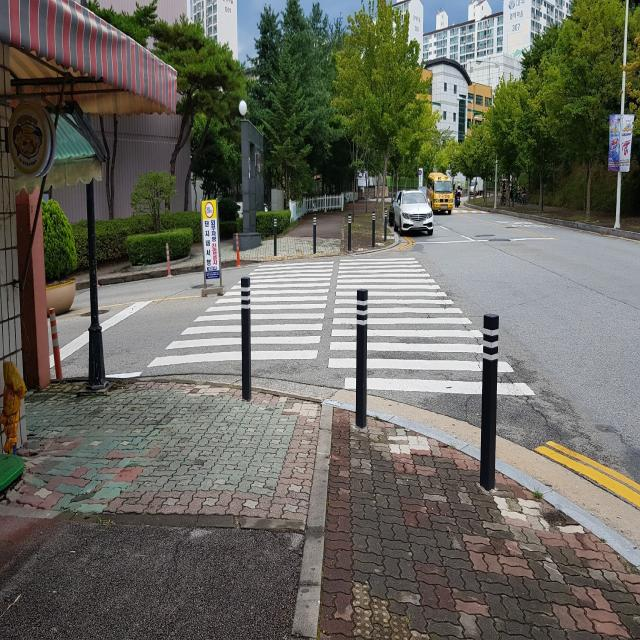횡단보도: (146, 257, 537, 396)
